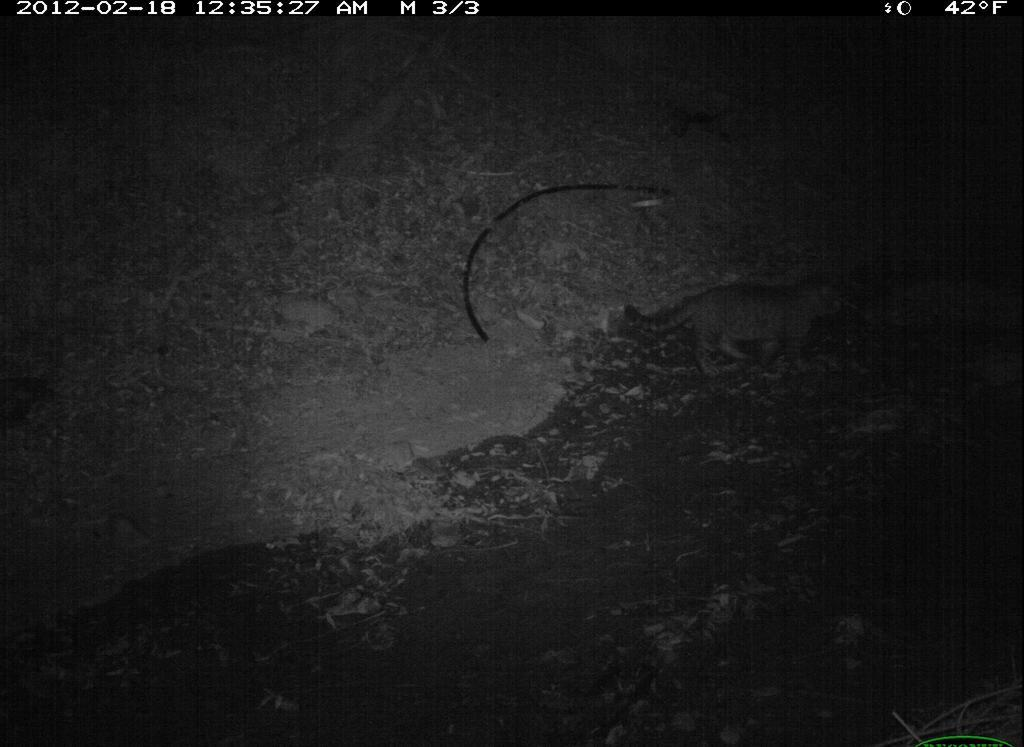cat: (617, 272, 843, 382)
